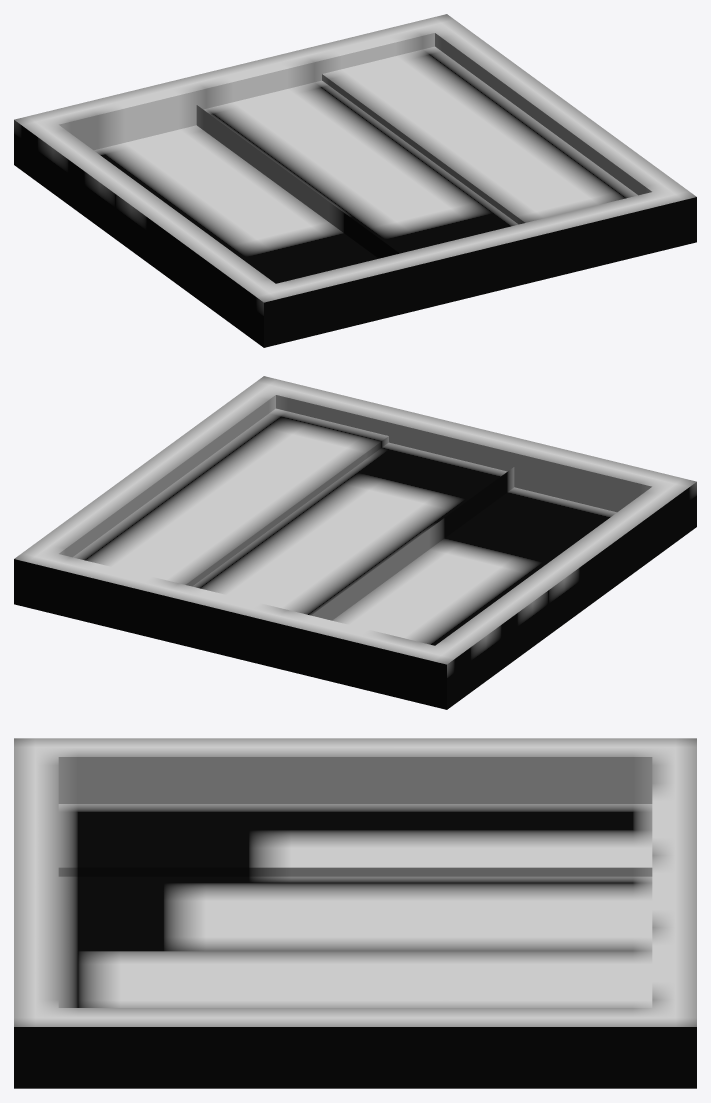
The model's file is exit.fbx.
3 views of the same model, one above another, from view 1: azimuth 30°, elevation 25°; view 2: azimuth 150°, elevation 25°; view 3: azimuth 270°, elevation 25° (orthographic). The views are drawn at different scales.
Visible parts, largest first — view 1: exit; view 2: exit; view 3: exit.
Boxes of the visible parts, bbox=[...] form: exit: bbox=[14, 14, 696, 347]; exit: bbox=[14, 376, 696, 709]; exit: bbox=[14, 738, 696, 1088].
Size of the model in its own units: 100 by 100 by 10.
